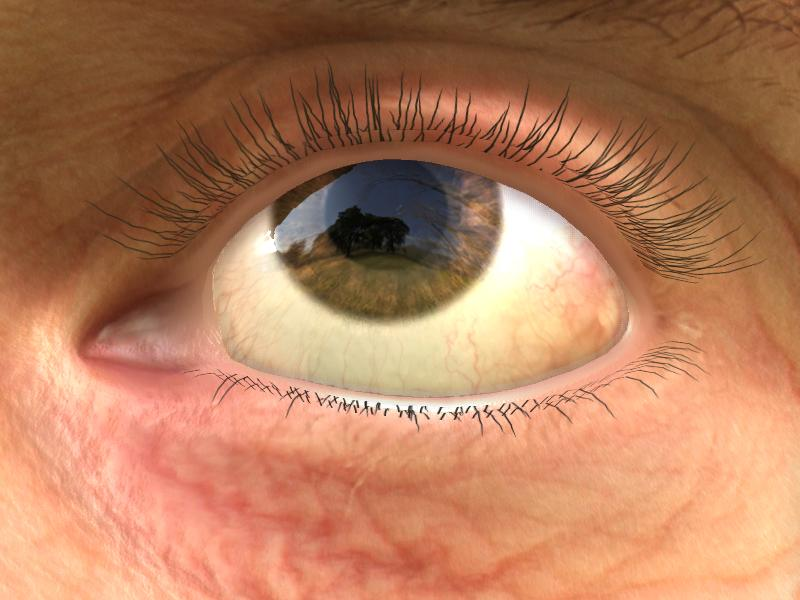eye: (269, 160, 502, 316)
